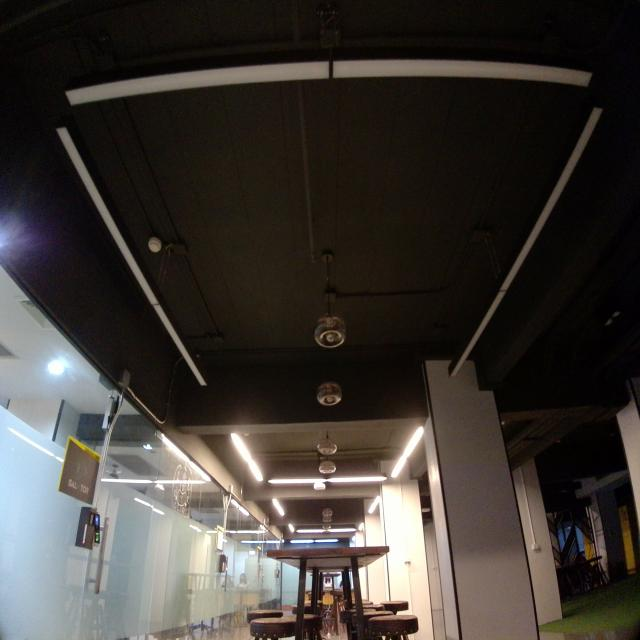lamp2_off: (443, 103, 615, 386), (51, 122, 214, 392), (58, 46, 603, 113)
